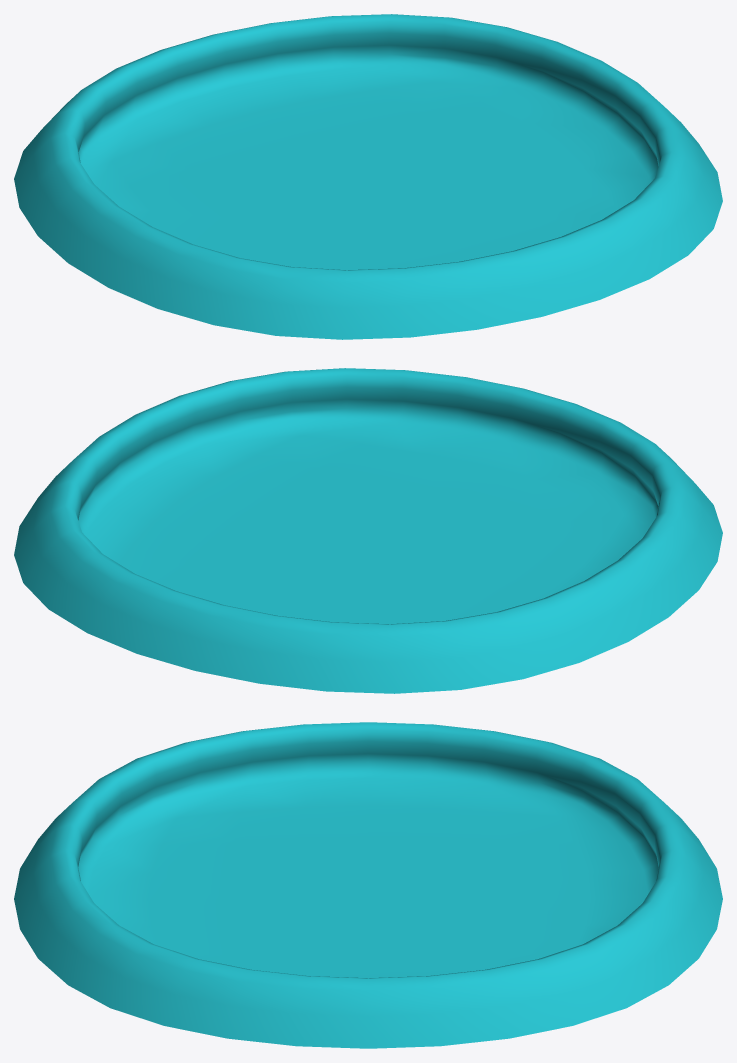
The model's file is Pressure_Plate_Base.fbx.
3 views of the same model, one above another, from view 1: azimuth 30°, elevation 25°; view 2: azimuth 150°, elevation 25°; view 3: azimuth 270°, elevation 25° (orthographic). The views are drawn at different scales.
Visible parts, largest first — view 1: Plane; view 2: Plane; view 3: Plane.
Part boxes in pixels (x1,y1,x2,y2): Plane: [14, 14, 722, 339]; Plane: [14, 368, 722, 693]; Plane: [14, 722, 722, 1048].
Size of the model in its own units: 171 by 12.93 by 171.
